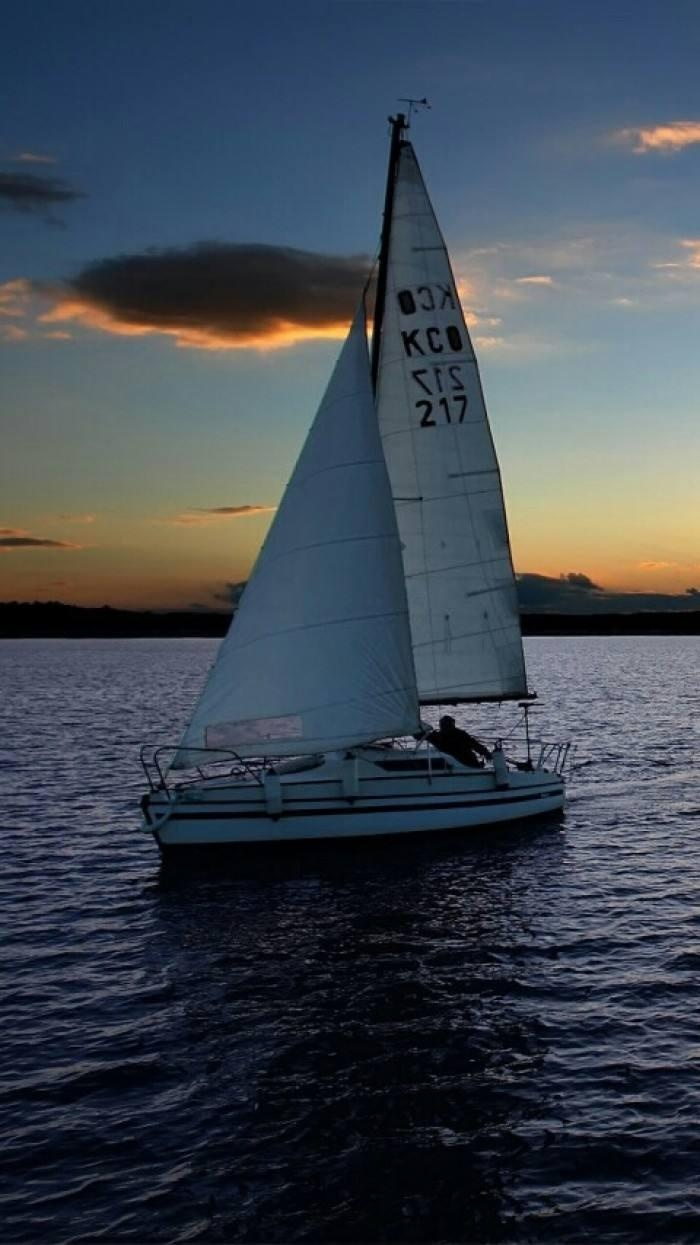fanchuan: (136, 91, 578, 856)
